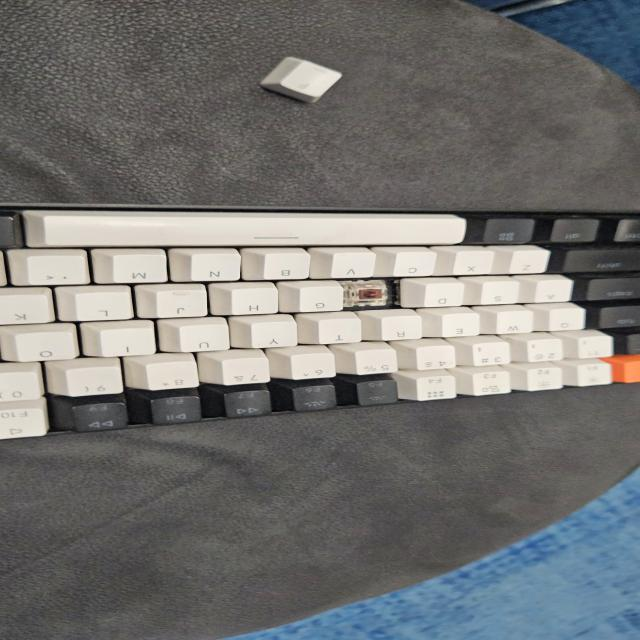C: (352, 286, 392, 306)
